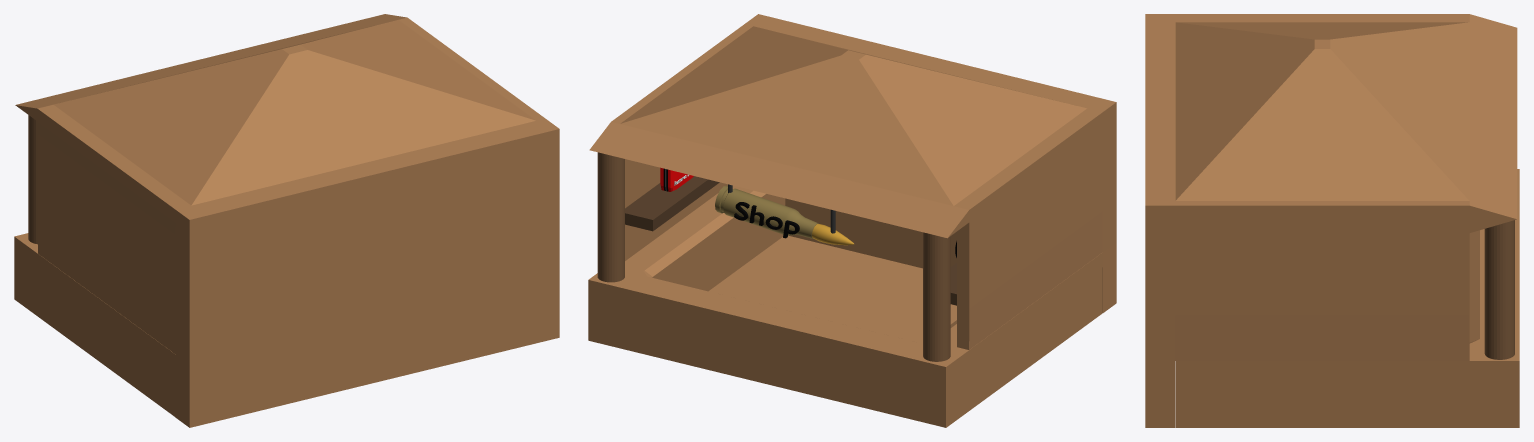
Rendered from Shop.fbx.
3 renders of one model, left to right at view 1: azimuth 30°, elevation 25°; view 2: azimuth 150°, elevation 25°; view 3: azimuth 270°, elevation 25°, orthographic. The views are drawn at different scales.
Visible parts, largest first — view 1: Cube, ShopStem; view 2: Cube, ShopStem2, ShopStem, bullet.001, Text, Cube.002; view 3: Cube, ShopStem2.
Part boxes in pixels (x1=…): Cube: x1=14, y1=14, x2=559, y2=427; ShopStem: x1=28, y1=115, x2=37, y2=244; Cube: x1=588, y1=14, x2=1116, y2=427; ShopStem2: x1=597, y1=152, x2=624, y2=282; ShopStem: x1=923, y1=232, x2=950, y2=361; bullet.001: x1=715, y1=185, x2=853, y2=245; Text: x1=734, y1=202, x2=799, y2=238; Cube.002: x1=660, y1=167, x2=693, y2=191; Cube: x1=1145, y1=14, x2=1519, y2=427; ShopStem2: x1=1484, y1=220, x2=1514, y2=359.
Bounding box in the file's own units: 3004 × 2107 × 2471.
